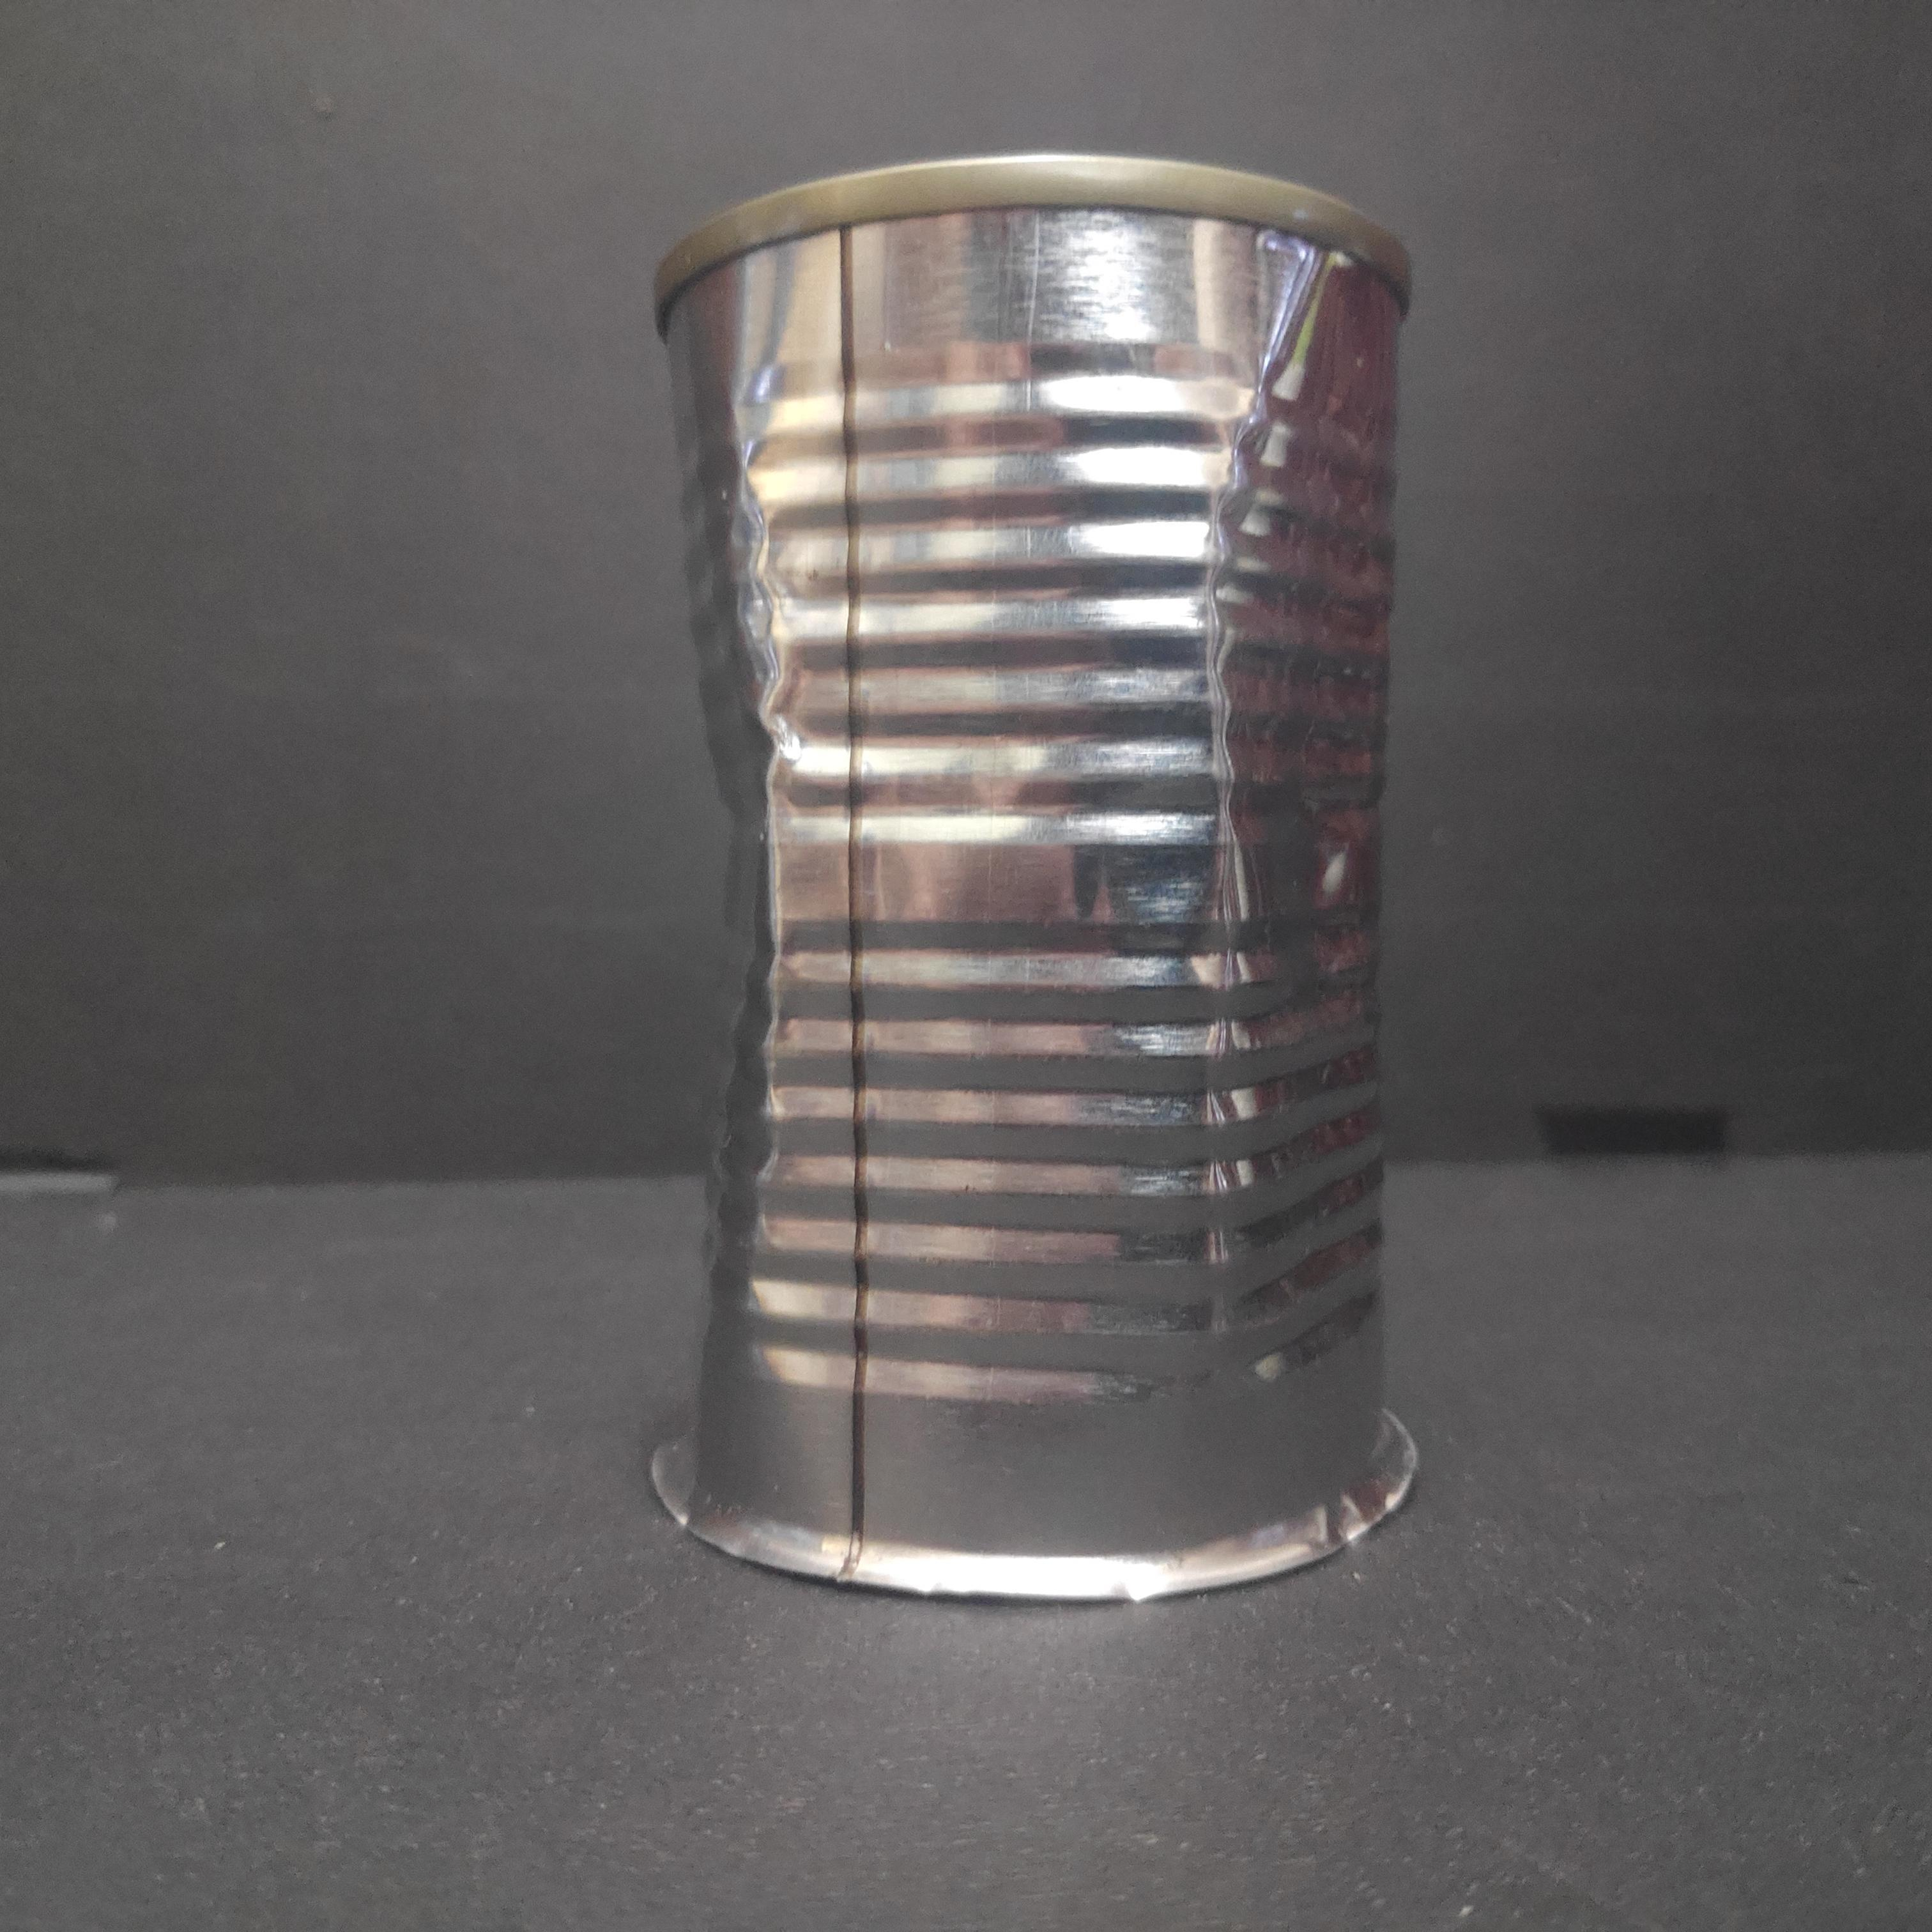Dented: (623, 131, 1444, 1626)
